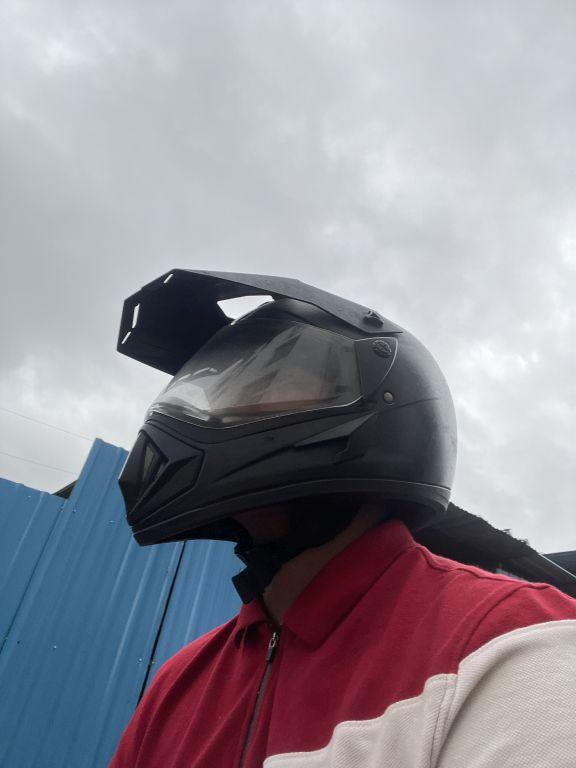helmet: (110, 247, 470, 553)
